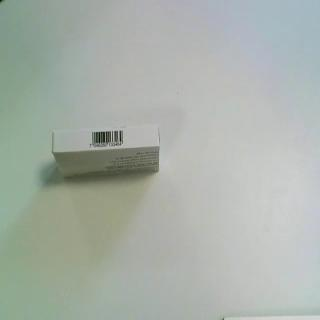oxycontin5mg: (51, 124, 163, 184)
